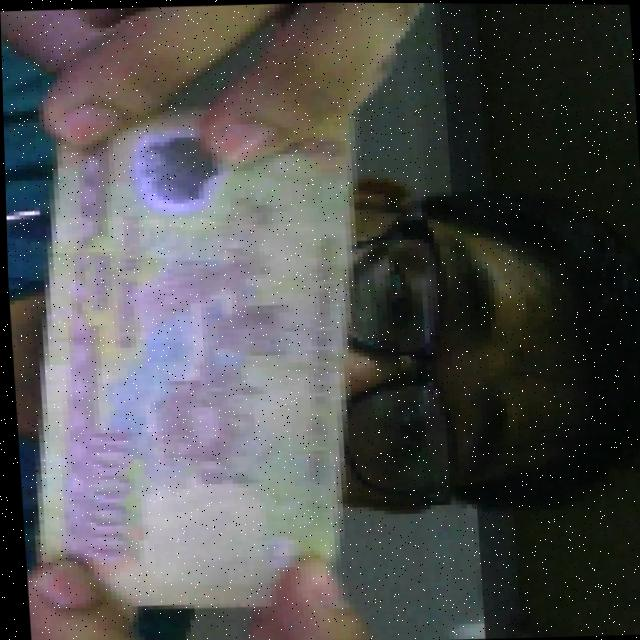10 000 VND: (0, 0, 389, 626)
